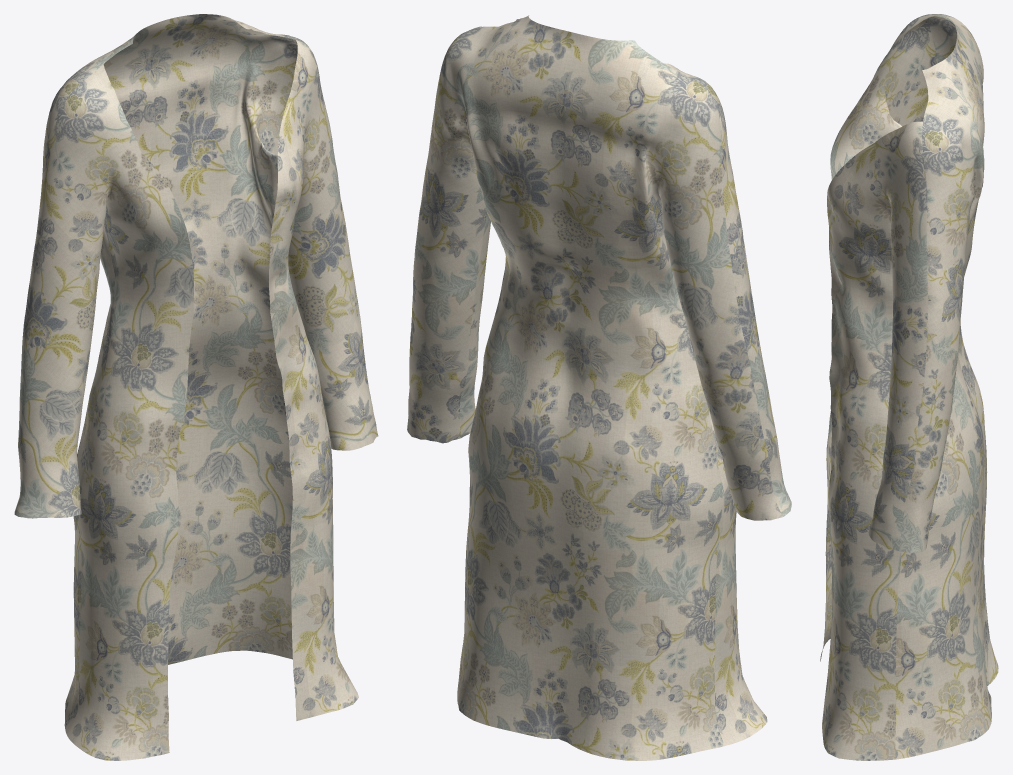
Rendered from medium.glb.
The picture shows the model from 3 angles, left to right: view 1: azimuth 30°, elevation 25°; view 2: azimuth 150°, elevation 25°; view 3: azimuth 270°, elevation 25°; orthographic projection. The views are drawn at different scales.
Visible parts, largest first — view 1: Medium_Inner_without vents; view 2: Medium_Inner_without vents; view 3: Medium_Inner_without vents.
Boxes of the visible parts, x1,y1,x2,y2 form: Medium_Inner_without vents: (14,14,378,760); Medium_Inner_without vents: (407,15,791,760); Medium_Inner_without vents: (820,14,998,760).
Bounding box in the file's own units: 55.58 × 98.73 × 24.08.
1 material, 1 textured.
